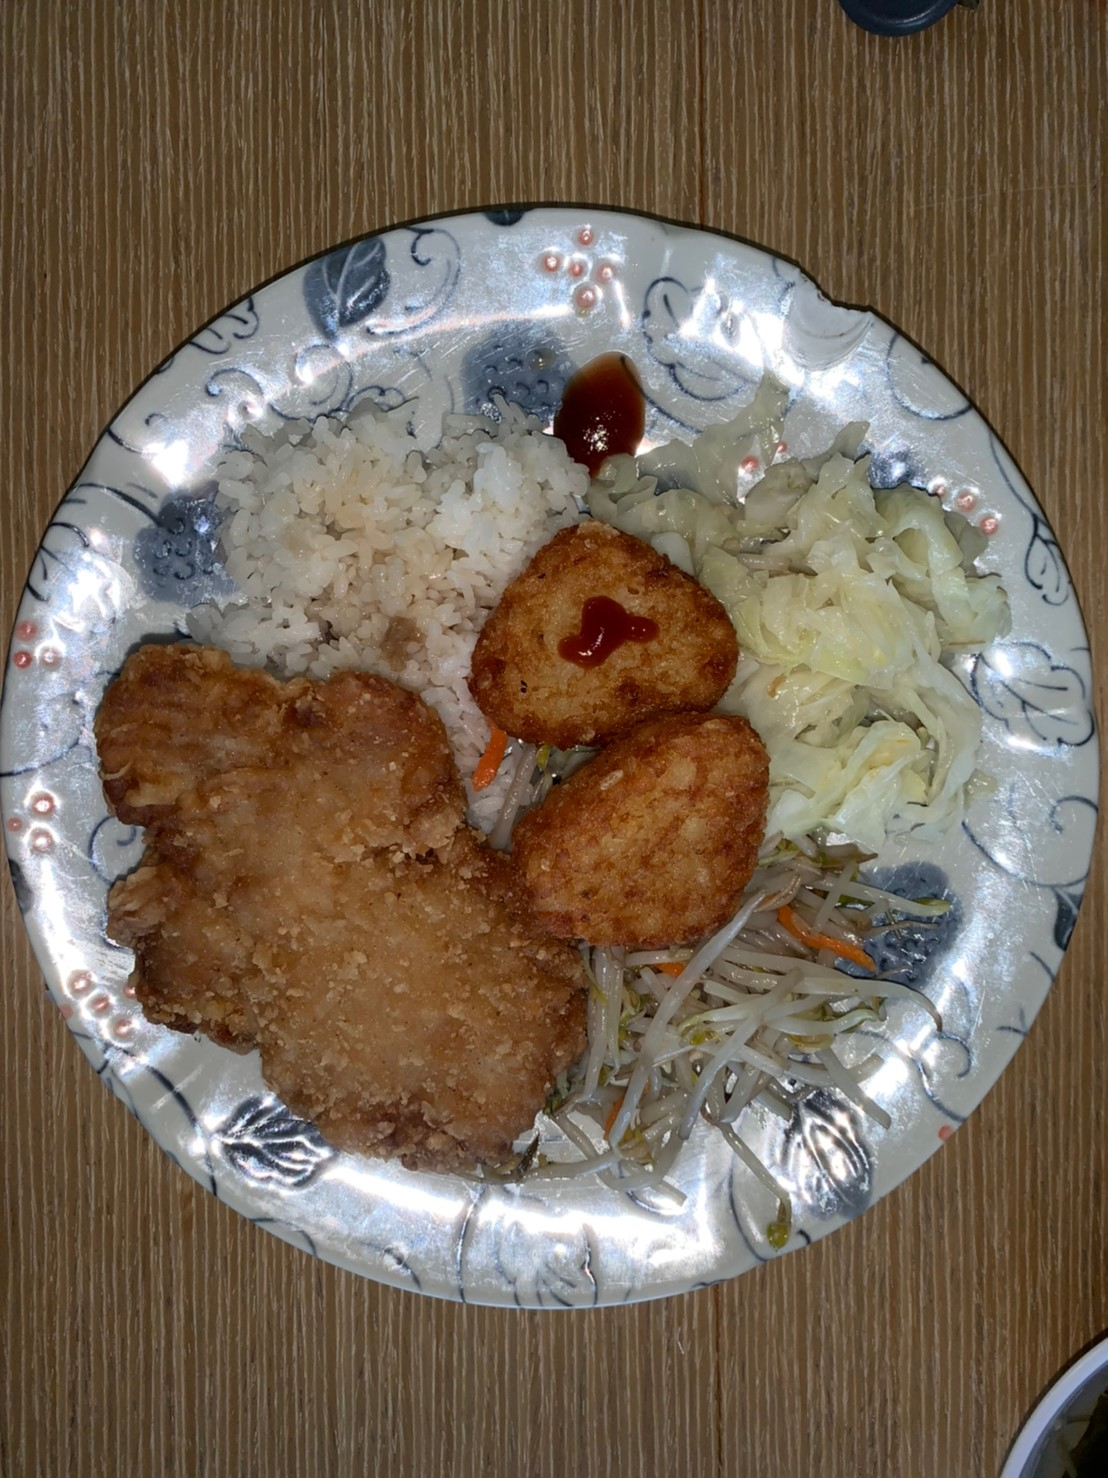chinese_cabbage: (712, 452, 983, 831)
fried_chicken: (86, 645, 537, 1154)
mung_bean_sprouts: (590, 871, 858, 1131)
rice: (246, 420, 530, 654)
triangle_hash_brown: (489, 527, 759, 938)
